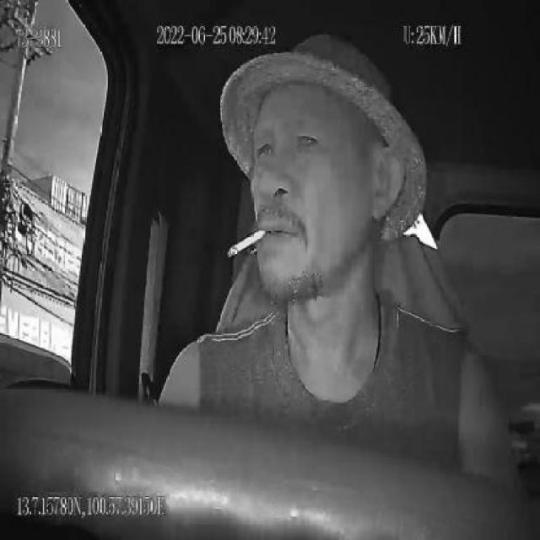smoking: (228, 226, 266, 258)
